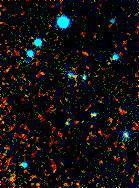star: (0, 168, 24, 188)
